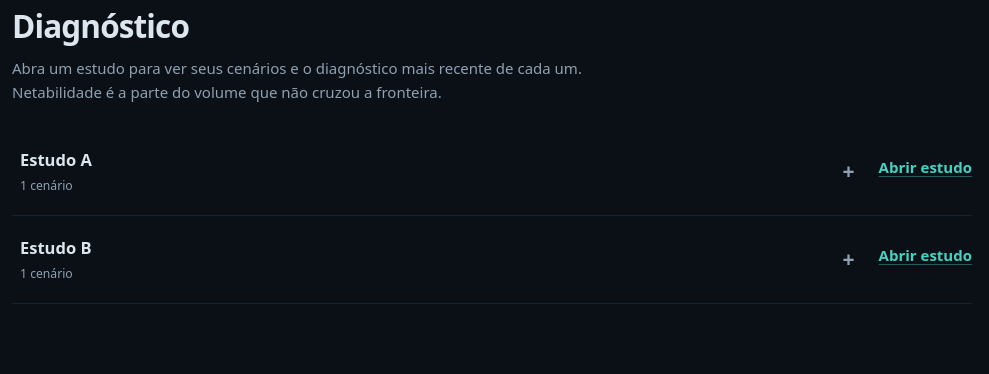
Test: DiagnosticsHubPage › mantém a tabela oculta se a leitura terminar depois do recolhimento
Click the button with aria-label "Mostrar diagnósticos de Estudo A" at point(56, 160), box [12,140,863,203]
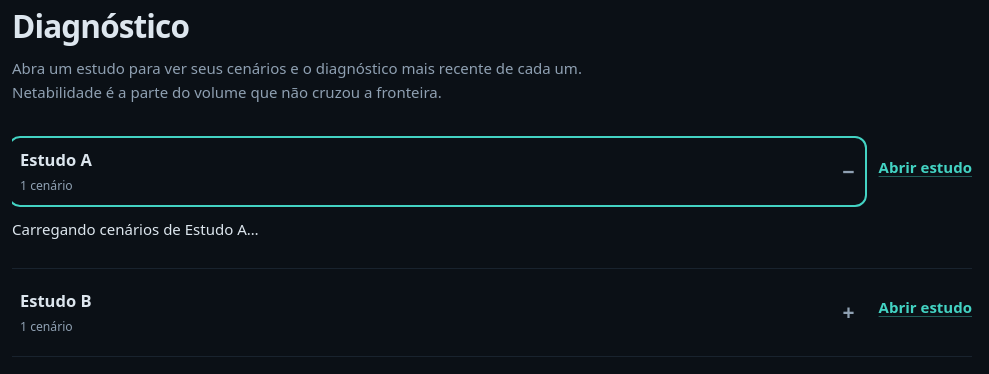
Click the button named "Mostrar diagnósticos de Estudo A" at point(56, 160), box [12,140,863,203]
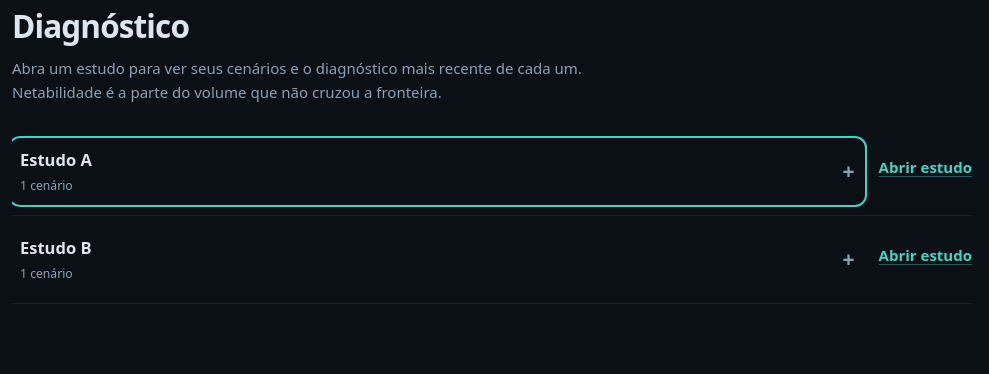
Expected: the message "cenários de Estudo A" is gone
Expected: the button with aria-label "Mostrar diagnósticos de Estudo A" is collapsed, [12,140,863,203]
